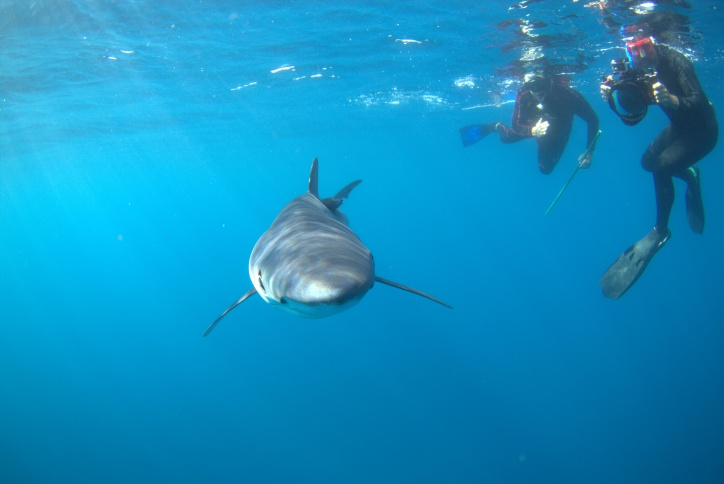Azul: (190, 155, 458, 333)
